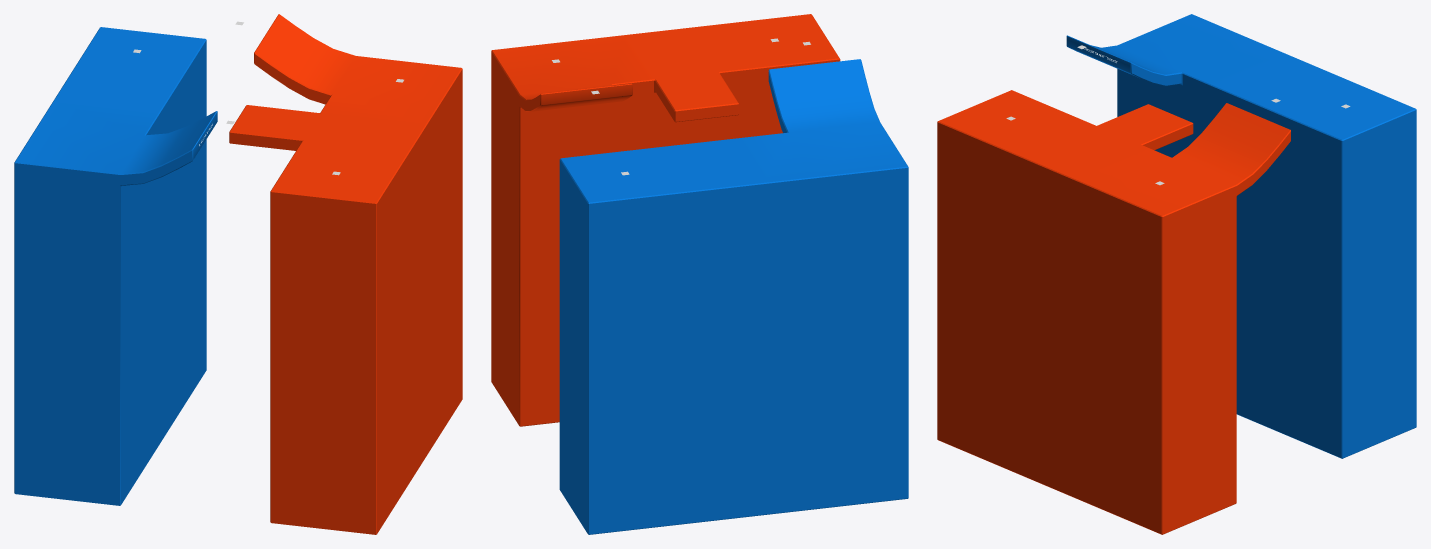
File: level-04.glb
3 renders of one model, left to right at view 1: azimuth 30°, elevation 25°; view 2: azimuth 150°, elevation 25°; view 3: azimuth 270°, elevation 25°, orthographic. The views are drawn at different scales.
Parts seen in each view (by area): view 1: Cube.001, Cube.002; view 2: Cube.002, Cube.001; view 3: Cube.001, Cube.002.
Boxes of the visible parts, x1,y1,x2,y2 form: Cube.001: [229, 14, 462, 534]; Cube.002: [14, 27, 217, 505]; Cube.002: [559, 59, 908, 534]; Cube.001: [491, 14, 840, 426]; Cube.001: [937, 90, 1290, 534]; Cube.002: [1066, 14, 1416, 458].
Size of what is drawn, in the model's own units: 137 by 114 by 137.
